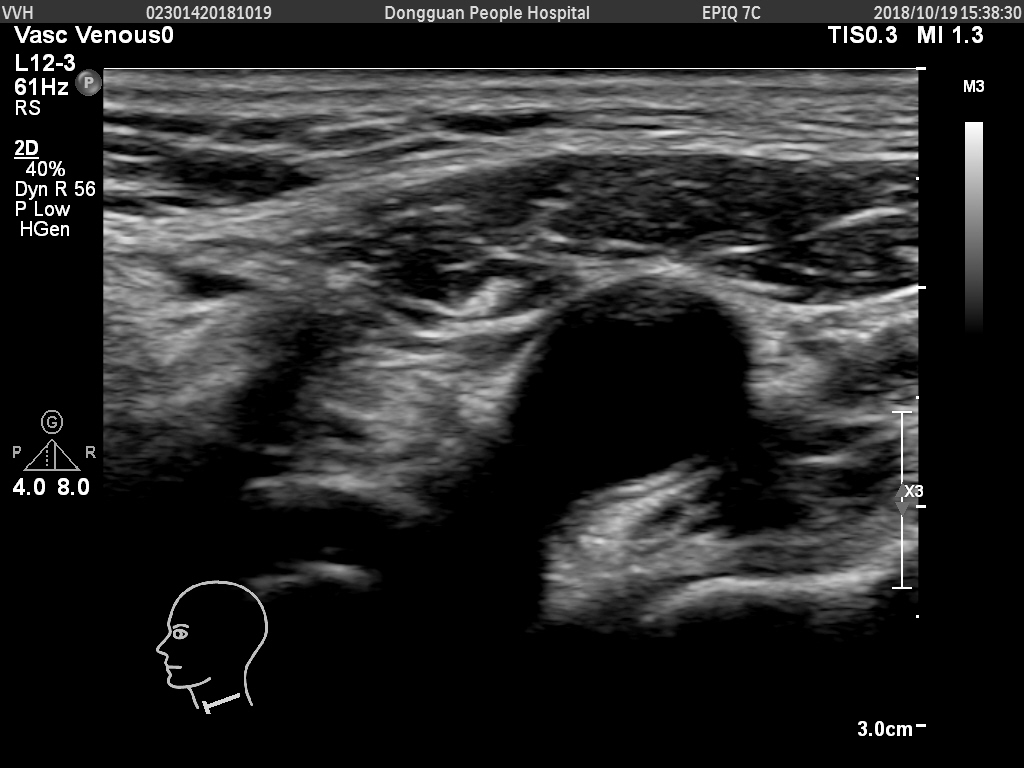plaque: (561, 275, 721, 336)
vessel: (485, 258, 784, 525)
